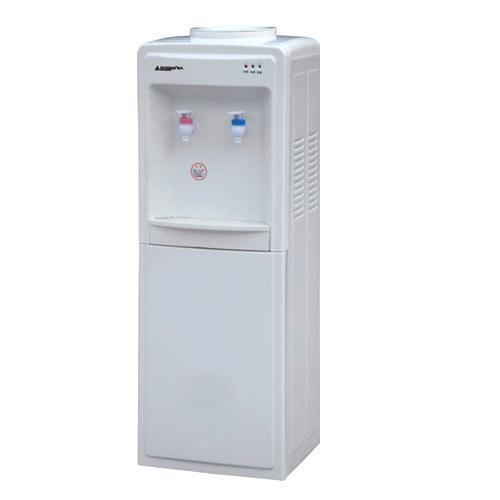Dispenser: (136, 27, 321, 481)
